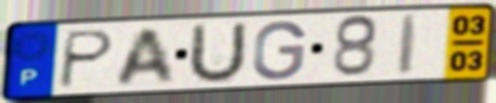8: (329, 13, 383, 82)
A: (113, 25, 178, 88)
G: (250, 19, 309, 82)
I: (395, 12, 423, 77)
P: (55, 28, 118, 91)
U: (184, 19, 250, 87)
